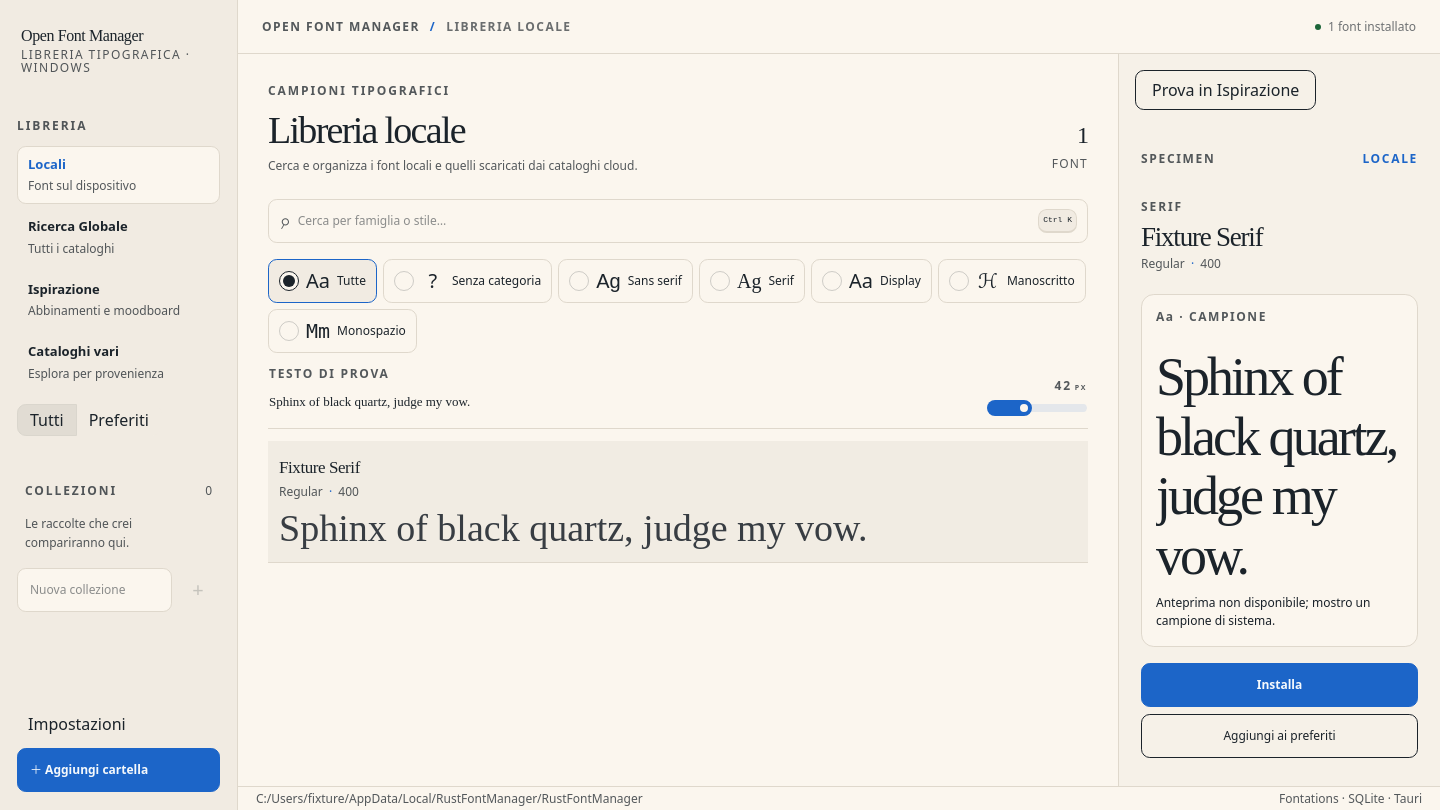
it: font manager workbench › opens settings from the application navigation
The image size is (1440, 810).
Expected: the heading "Fixture Serif" is shown, [1141,222,1262,252]
Click the button "Impostazioni".
click(118, 724)  # box [17,699,220,748]
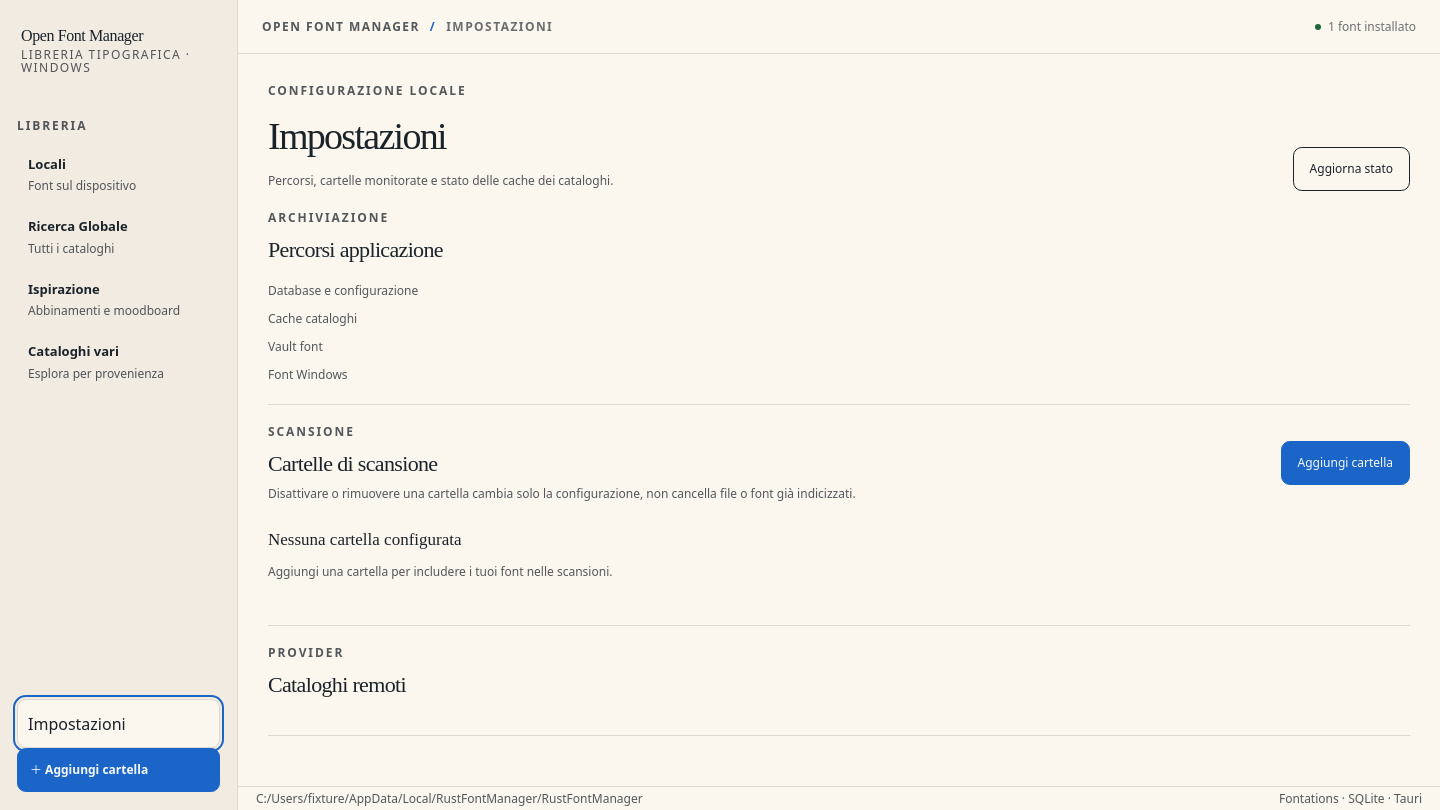
Expected: the heading "Impostazioni" is shown, [268,115,446,157]
